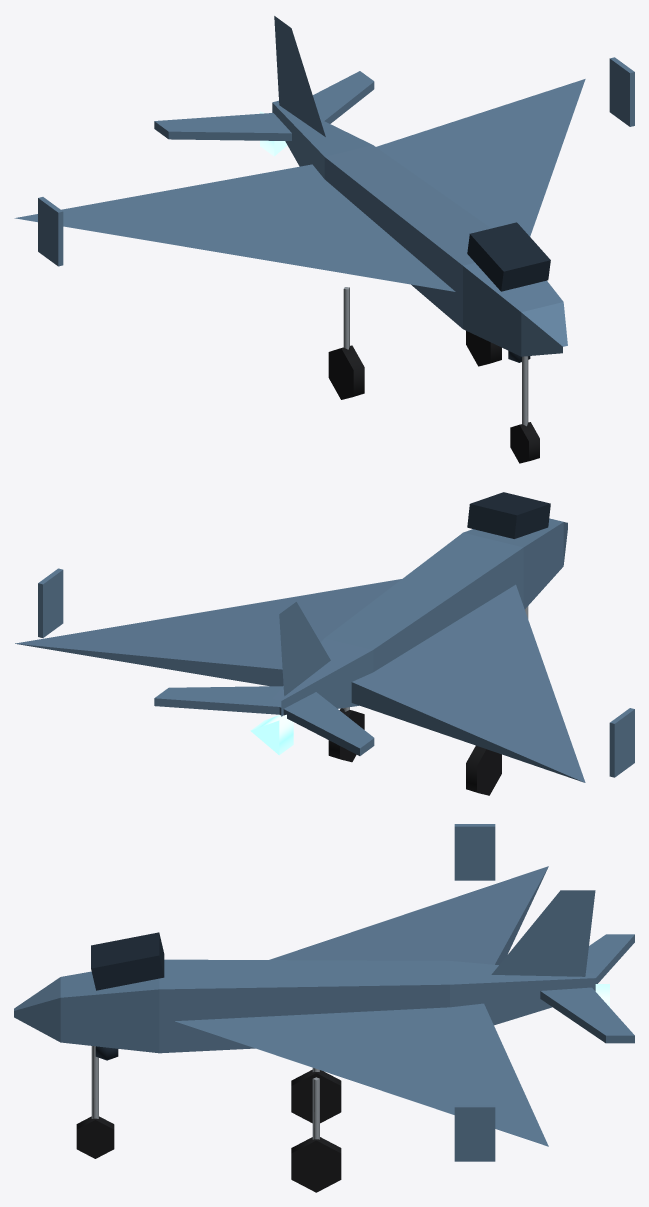
The model's file is veh_air_fighter_a10_lod2.glb.
3 renders of one model, top to bottom at view 1: azimuth 30°, elevation 25°; view 2: azimuth 150°, elevation 25°; view 3: azimuth 270°, elevation 25°, orthographic.
Parts seen in each view (by area): view 1: body, gear_1, gear_0, gear_2; view 2: body, gear_1, gear_2; view 3: body, gear_2, gear_1, gear_0.
Part boxes in pixels (bbox=[...]): body: bbox=[14, 16, 634, 362]; gear_1: bbox=[328, 287, 364, 399]; gear_0: bbox=[510, 356, 539, 463]; gear_2: bbox=[466, 331, 501, 366]; body: bbox=[15, 492, 634, 782]; gear_1: bbox=[466, 745, 501, 795]; gear_2: bbox=[328, 707, 364, 762]; body: bbox=[14, 824, 634, 1161]; gear_2: bbox=[291, 1077, 341, 1192]; gear_1: bbox=[291, 1068, 341, 1123]; gear_0: bbox=[76, 1046, 114, 1158].
Size of the model in its own units: 9.28 by 4.08 by 8.6.
